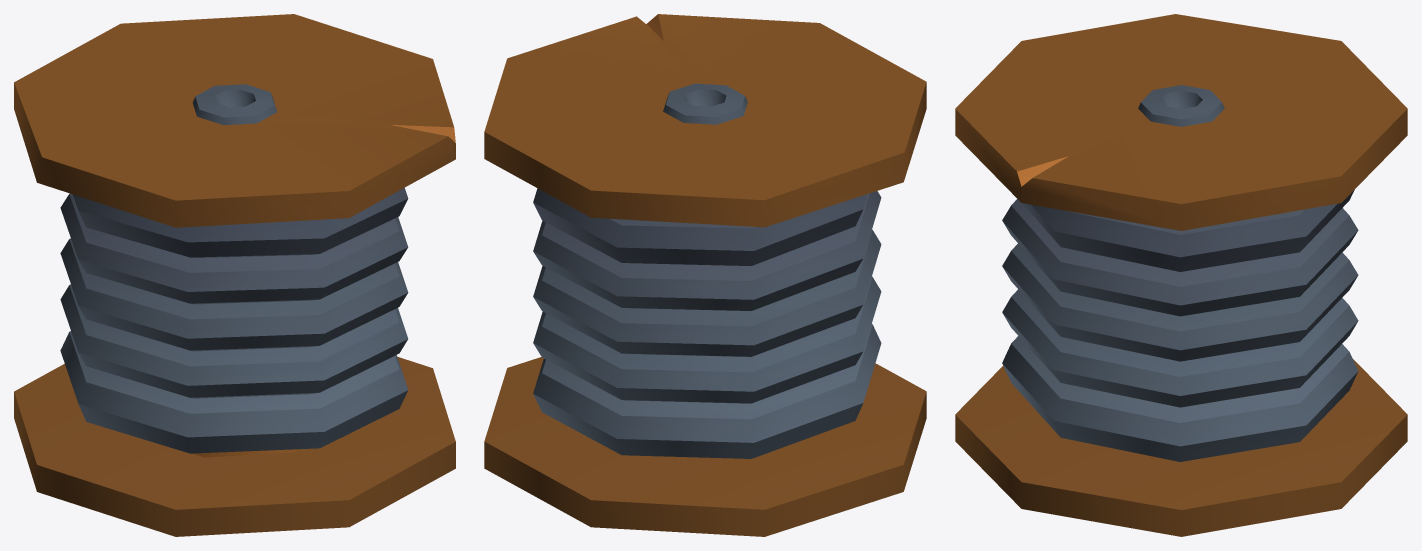
Rendered from Spool_2_1.glb.
3 renders of one model, left to right at view 1: azimuth 30°, elevation 25°; view 2: azimuth 150°, elevation 25°; view 3: azimuth 270°, elevation 25°, orthographic.
Parts seen in each view (by area): view 1: Spool_2_1; view 2: Spool_2_1; view 3: Spool_2_1.
Part boxes in pixels (box(x1,y1,x2,y2)): Spool_2_1: box(14, 14, 455, 536); Spool_2_1: box(484, 14, 926, 536); Spool_2_1: box(955, 14, 1407, 536).
Bounding box in the file's own units: 1.21 × 1.02 × 1.21.
2 materials, 2 textured.
